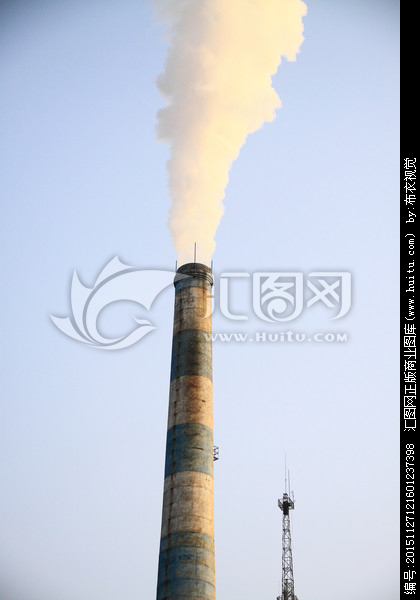dust: (129, 9, 309, 283)
